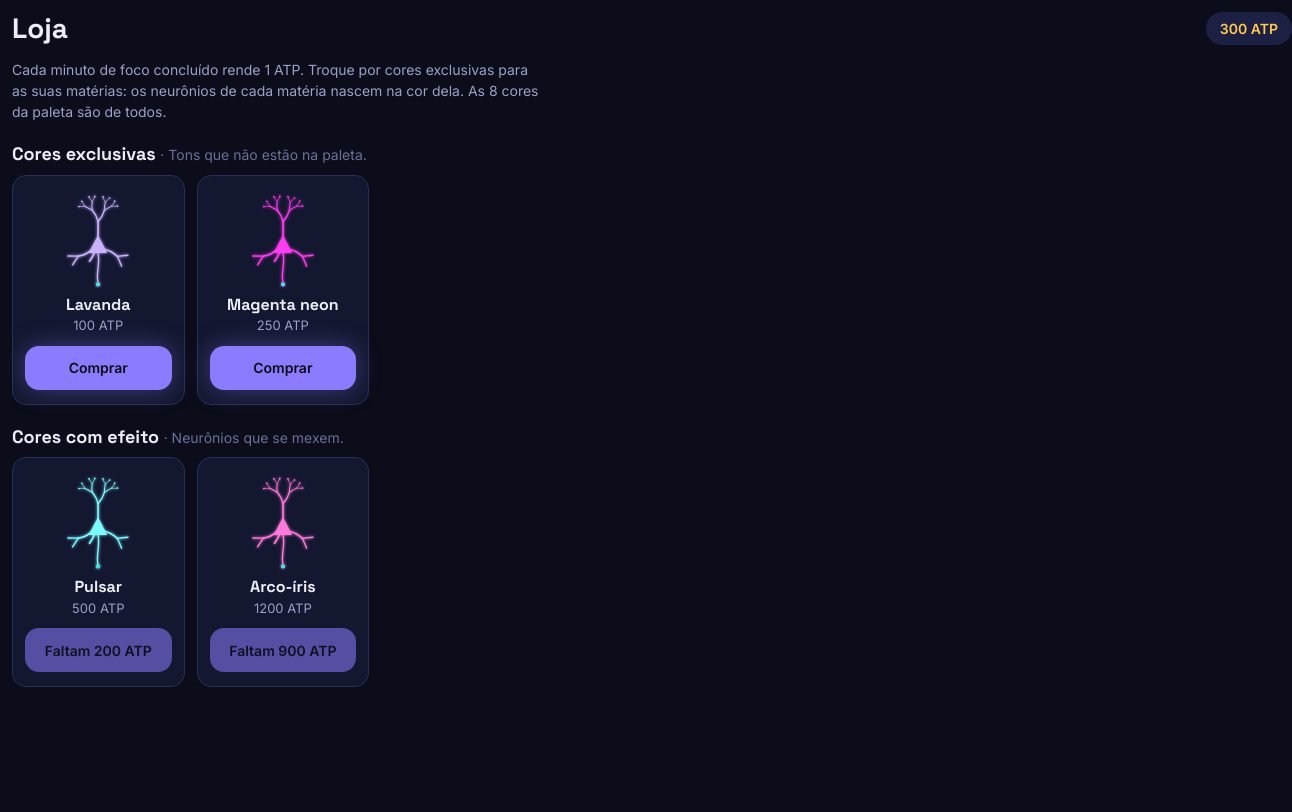
Test case: tela da loja › mostra o motivo quando o servidor recusa a compra
Expected: the text named "Saldo: 300 ATP" is shown, [1206,12,1291,45]
Click the button with aria-label "Comprar a cor Magenta neon por 250 ATP" at x=283, y=368, box [210,346,356,390]
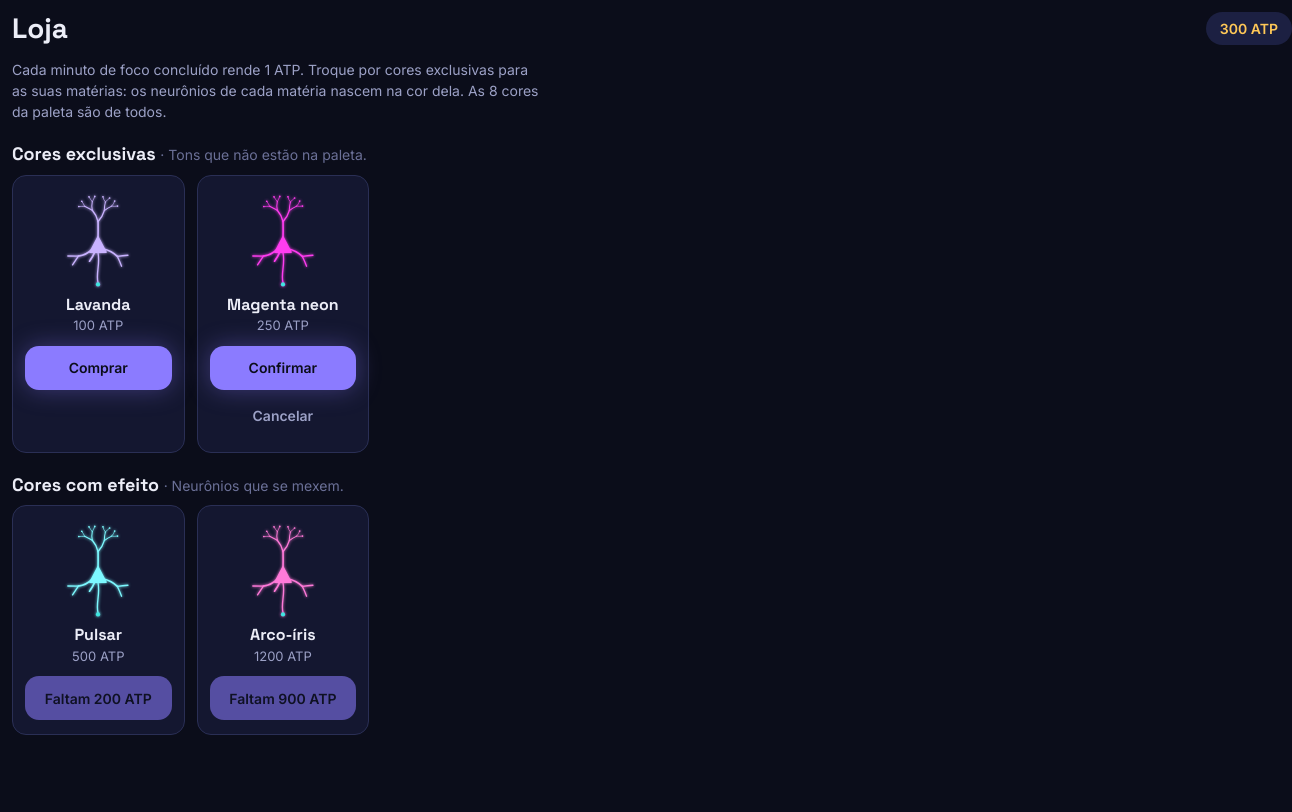
Click the button with aria-label "Confirmar a compra da cor Magenta neon por 250 ATP" at x=283, y=368, box [210,346,356,390]
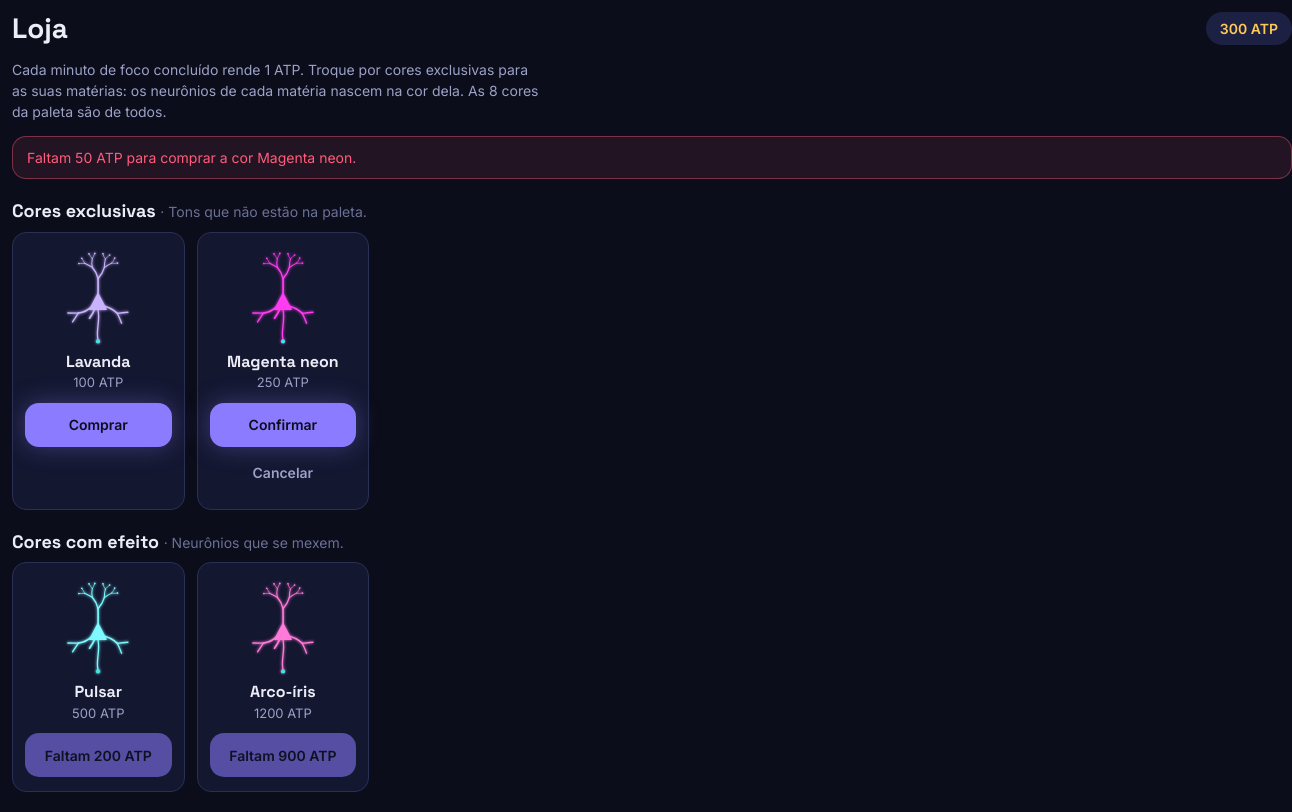
Expected: the text named "Saldo: 300 ATP" is shown, [1206,12,1291,45]
Now the message reads "Faltam 50 ATP para comprar a cor Magenta neon.", box [27,149,356,166]
